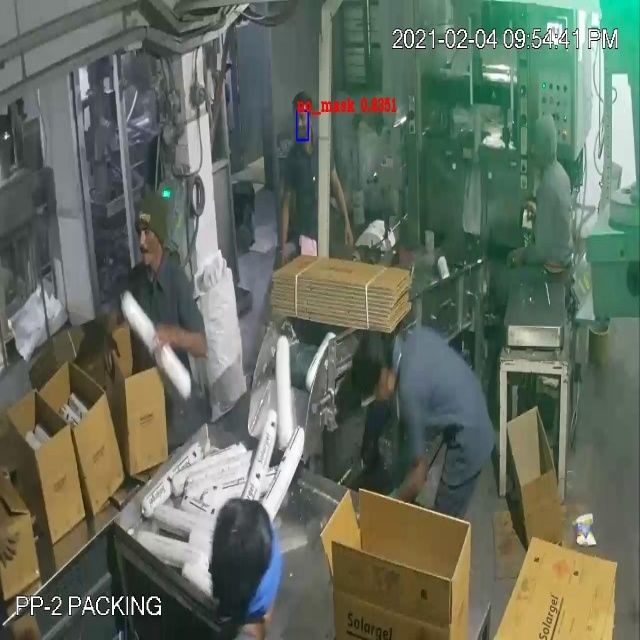Sin_guantes: (144, 304, 215, 384), (374, 442, 441, 504), (273, 180, 306, 282), (325, 150, 354, 253), (0, 511, 26, 572)
